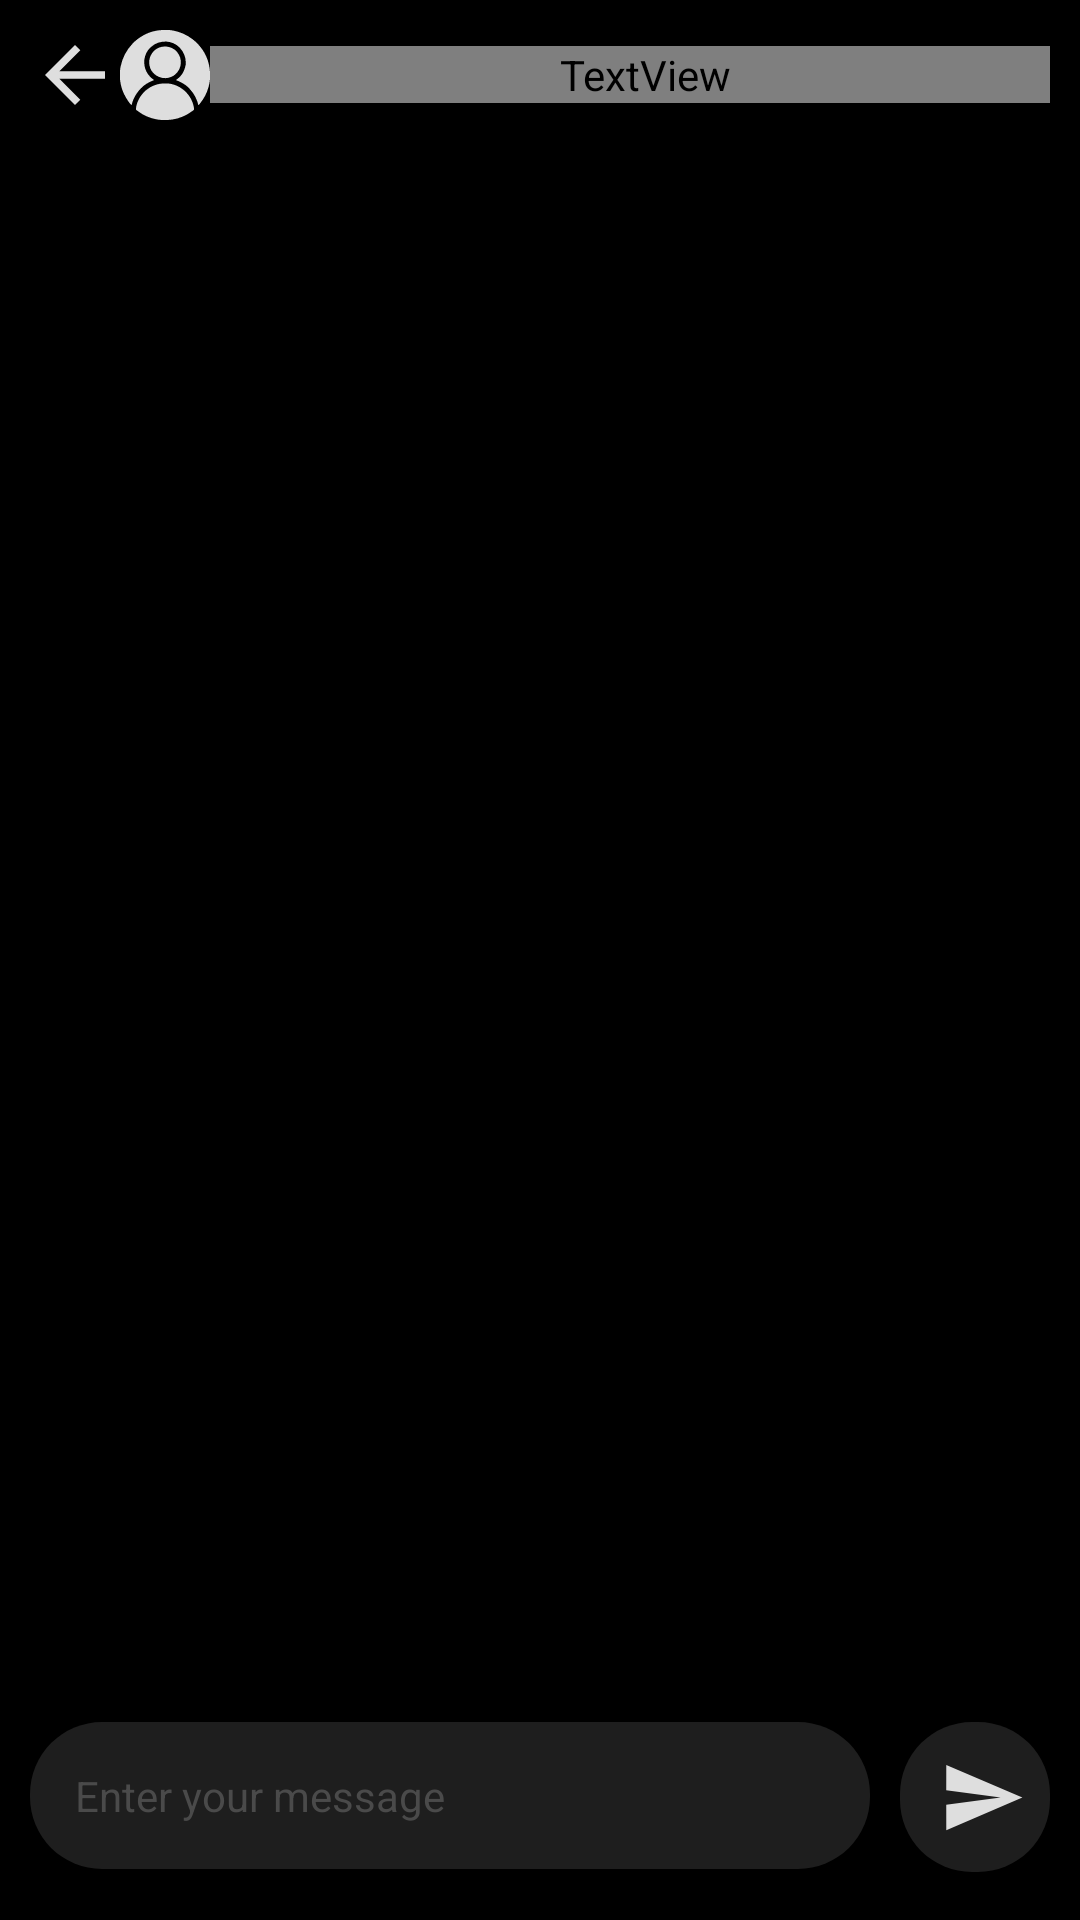

Named icons in this screenshot (1080x1920) and their centers, (x,y):
Back: (75,75)
send: (984,1797)
user: (165,75)
